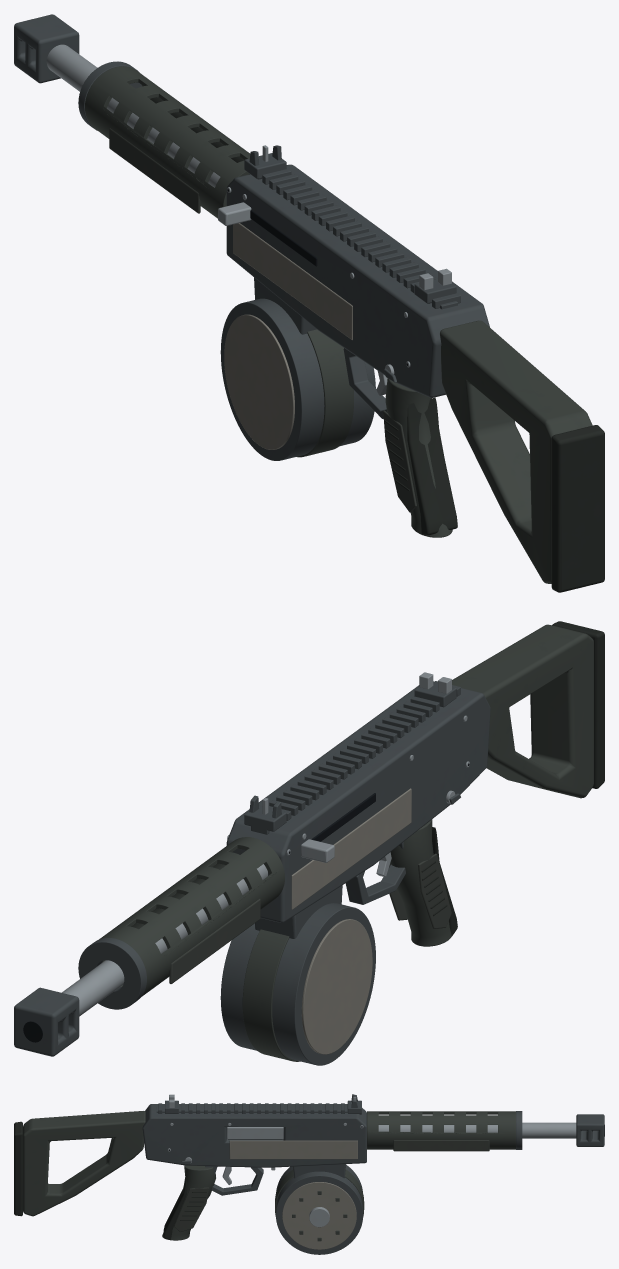
Rendered from maelstrom.glb.
The picture shows the model from 3 angles, top to bottom: view 1: azimuth 30°, elevation 25°; view 2: azimuth 150°, elevation 25°; view 3: azimuth 270°, elevation 25°; orthographic projection. The views are drawn at different scales.
Parts seen in each view (by area): view 1: Maelstrom_Receiver, Maelstrom_Stock, Maelstrom_Static_Treated graphite, Maelstrom_Handguard, Maelstrom_Buttpad, Maelstrom_DrumCap, Maelstrom_Magazine, Maelstrom_Static_Dense rubber, Maelstrom_Static_Warm grey coating, Maelstrom_Static_Grip stipple, Maelstrom_DrumBand, Maelstrom_Grip (+1 smaller); view 2: Maelstrom_Receiver, Maelstrom_Stock, Maelstrom_Static_Treated graphite, Maelstrom_Handguard, Maelstrom_Magazine, Maelstrom_DrumCap, Maelstrom_Static_Warm grey coating, Maelstrom_DrumBand, Maelstrom_Static_Grip stipple, Maelstrom_Grip, Maelstrom_Barrel, Maelstrom_Buttpad (+5 smaller); view 3: Maelstrom_Receiver, Maelstrom_Stock, Maelstrom_Handguard, Maelstrom_Static_Treated graphite, Maelstrom_DrumCap.001, Maelstrom_Static_Warm grey coating, Maelstrom_Magazine, Maelstrom_Static_Grip stipple, Maelstrom_Barrel, Maelstrom_Grip, Maelstrom_Buttpad, Maelstrom_Slide (+4 smaller).
Boxes of the visible parts, x1,y1,x2,y2 form: Maelstrom_Receiver: [226, 164, 489, 397]; Maelstrom_Stock: [440, 320, 592, 583]; Maelstrom_Static_Treated graphite: [14, 14, 460, 418]; Maelstrom_Handguard: [85, 66, 250, 218]; Maelstrom_Buttpad: [551, 425, 604, 592]; Maelstrom_DrumCap: [224, 314, 294, 449]; Maelstrom_Magazine: [220, 298, 375, 460]; Maelstrom_Static_Dense rubber: [384, 397, 457, 535]; Maelstrom_Static_Warm grey coating: [233, 223, 352, 340]; Maelstrom_Static_Grip stipple: [109, 128, 443, 512]; Maelstrom_DrumBand: [297, 329, 353, 457]; Maelstrom_Grip: [385, 378, 452, 537]; Maelstrom_Receiver: [226, 681, 490, 922]; Maelstrom_Stock: [452, 624, 593, 798]; Maelstrom_Static_Treated graphite: [14, 681, 460, 1056]; Maelstrom_Handguard: [99, 837, 284, 996]; Maelstrom_Magazine: [220, 903, 375, 1065]; Maelstrom_DrumCap: [301, 919, 372, 1054]; Maelstrom_Static_Warm grey coating: [291, 788, 411, 909]; Maelstrom_DrumBand: [242, 929, 300, 1061]; Maelstrom_Static_Grip stipple: [169, 853, 451, 983]; Maelstrom_Grip: [389, 819, 451, 946]; Maelstrom_Barrel: [62, 864, 267, 1016]; Maelstrom_Buttpad: [552, 621, 604, 788]; Maelstrom_Receiver: [142, 1104, 366, 1167]; Maelstrom_Stock: [23, 1111, 145, 1216]; Maelstrom_Handguard: [367, 1111, 515, 1149]; Maelstrom_Static_Treated graphite: [156, 1094, 604, 1195]; Maelstrom_DrumCap.001: [282, 1182, 356, 1249]; Maelstrom_Static_Warm grey coating: [229, 1140, 357, 1159]; Maelstrom_Magazine: [276, 1165, 363, 1254]; Maelstrom_Static_Grip stipple: [174, 1140, 489, 1232]; Maelstrom_Barrel: [378, 1122, 576, 1138]; Maelstrom_Grip: [162, 1165, 215, 1240]; Maelstrom_Buttpad: [14, 1121, 22, 1216]; Maelstrom_Slide: [227, 1127, 283, 1139].
Size of the model in its own units: 0.099 by 0.2565 by 0.9206.
7 materials, 7 textured.
